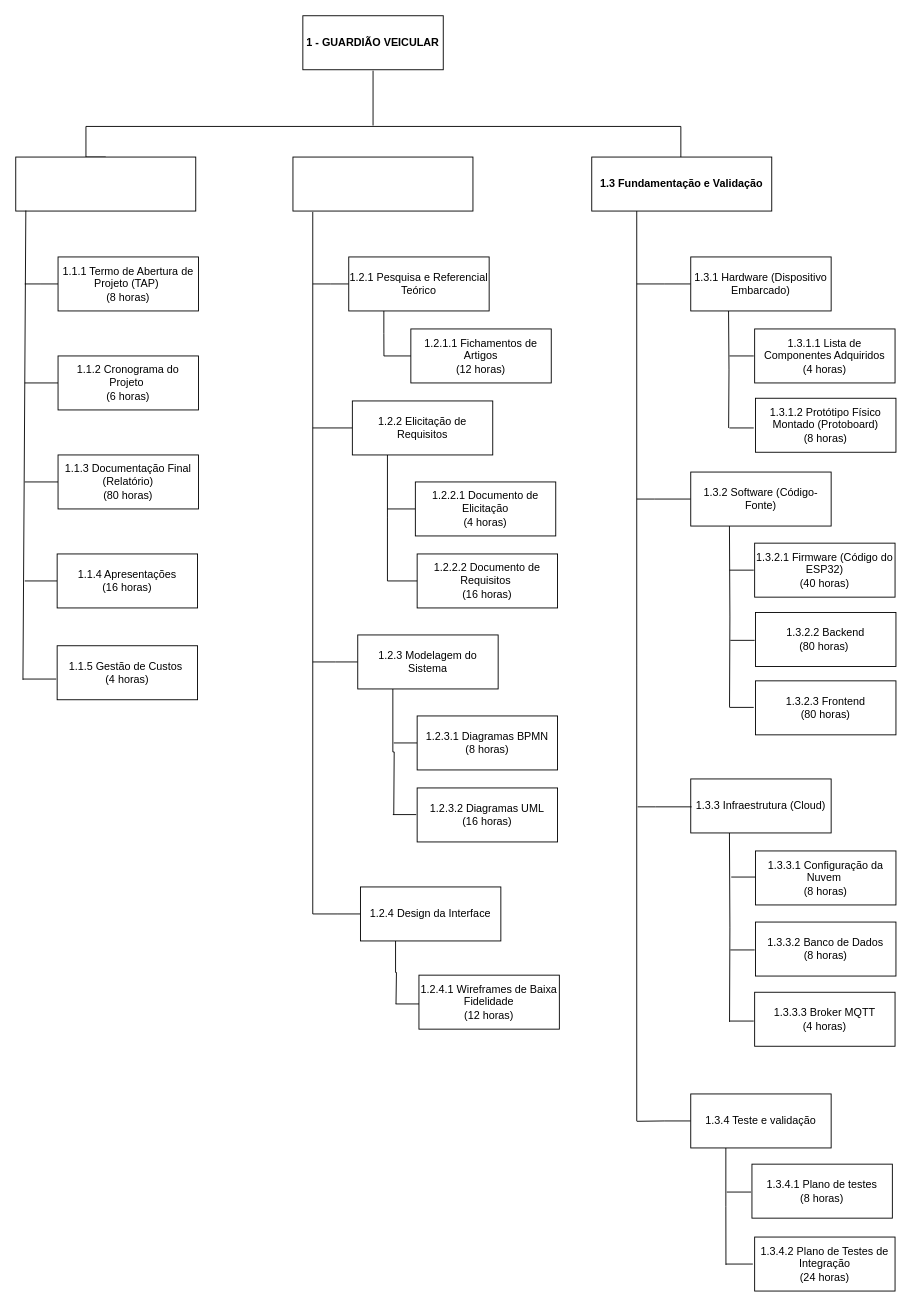
This 912x1307 diagram has some shape labels left out. The shapes that lost their labels are listed below. From the top down, each one's centre as x and y in pixels, then its label:
the point at 105,183: 1.1 Gerenciamento do Projeto
the point at 382,183: 1.2 Planejamento e Fundamentação
